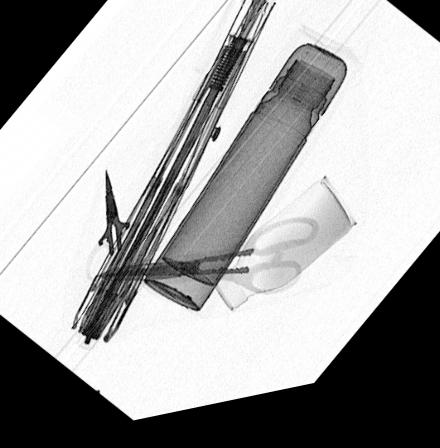Scissors: (91, 228, 320, 307), (80, 169, 160, 289)
